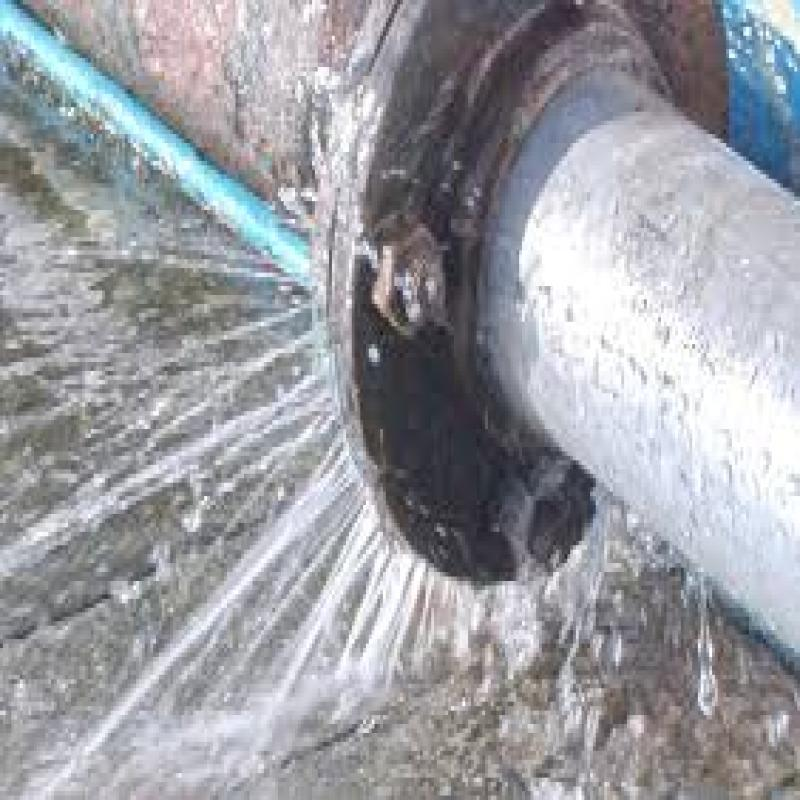Fracture: (211, 97, 636, 702)
